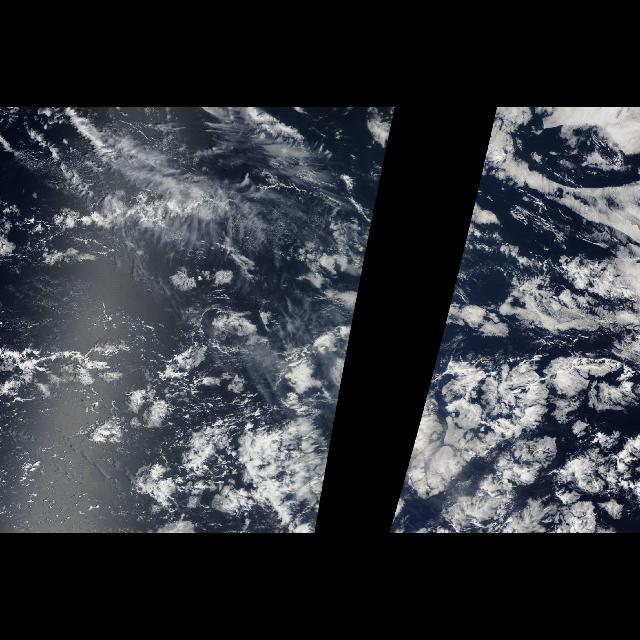Fish: (28, 115, 346, 269)
Flower: (69, 256, 368, 534), (390, 256, 640, 528)
